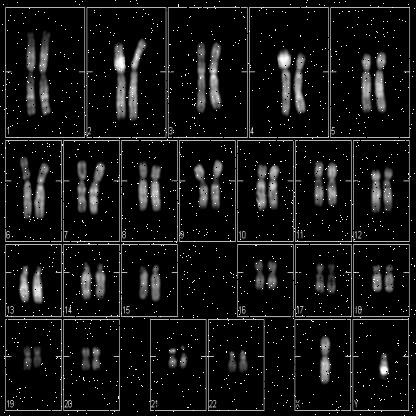1: (23, 22, 38, 121), (38, 21, 52, 119)
10: (255, 158, 268, 216), (268, 160, 280, 216)
11: (312, 154, 324, 216), (326, 153, 338, 215)
12: (369, 159, 382, 227), (381, 159, 394, 227)
13: (30, 260, 46, 304), (17, 261, 32, 305)
14: (93, 258, 106, 302), (80, 258, 92, 304)
15: (136, 260, 150, 304), (149, 260, 163, 304)
16: (252, 255, 266, 297), (266, 255, 280, 297)
17: (313, 258, 327, 300), (326, 258, 340, 299)
18: (370, 259, 384, 298), (383, 260, 397, 298)
19: (32, 340, 44, 376), (22, 340, 32, 376)
2: (127, 36, 148, 122), (112, 37, 128, 123)
20: (78, 338, 92, 376), (91, 338, 105, 376)
21: (178, 340, 189, 378), (168, 338, 178, 378)
22: (237, 340, 252, 380), (224, 340, 238, 380)
3: (194, 36, 208, 119), (208, 36, 222, 119)
4: (292, 42, 309, 121), (276, 42, 292, 121)
5: (358, 44, 374, 118), (372, 44, 387, 118)
6: (33, 149, 52, 224), (16, 150, 34, 226)
7: (88, 154, 107, 216), (74, 154, 88, 216)
8: (148, 154, 162, 213), (136, 154, 150, 210)
9: (194, 160, 210, 210), (210, 157, 224, 211)
X: (318, 328, 333, 394)
Y: (374, 340, 394, 388)
